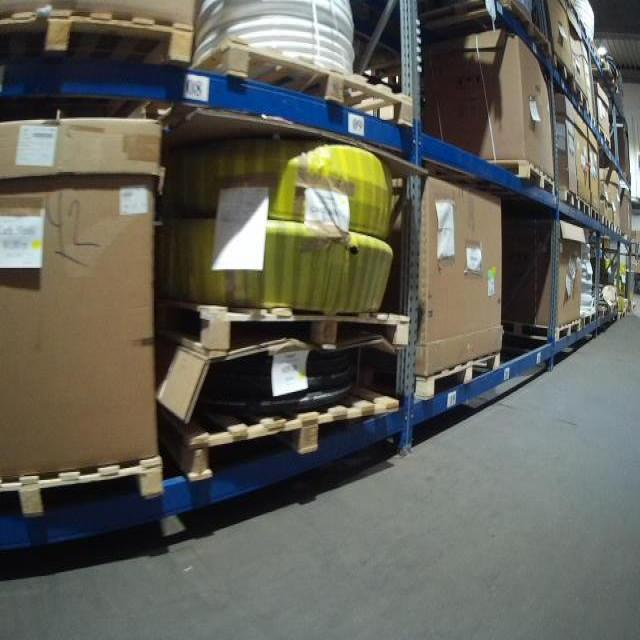pallet: (161, 386, 397, 486), (194, 36, 415, 130), (153, 290, 410, 365), (0, 3, 196, 71), (2, 446, 168, 522), (415, 0, 553, 62), (414, 350, 502, 403), (484, 157, 556, 198), (502, 316, 582, 344), (552, 50, 574, 95), (558, 185, 579, 211), (573, 81, 588, 113), (597, 124, 611, 149), (578, 197, 591, 217), (583, 312, 596, 327), (587, 107, 596, 126), (590, 206, 599, 222), (602, 215, 610, 229)
